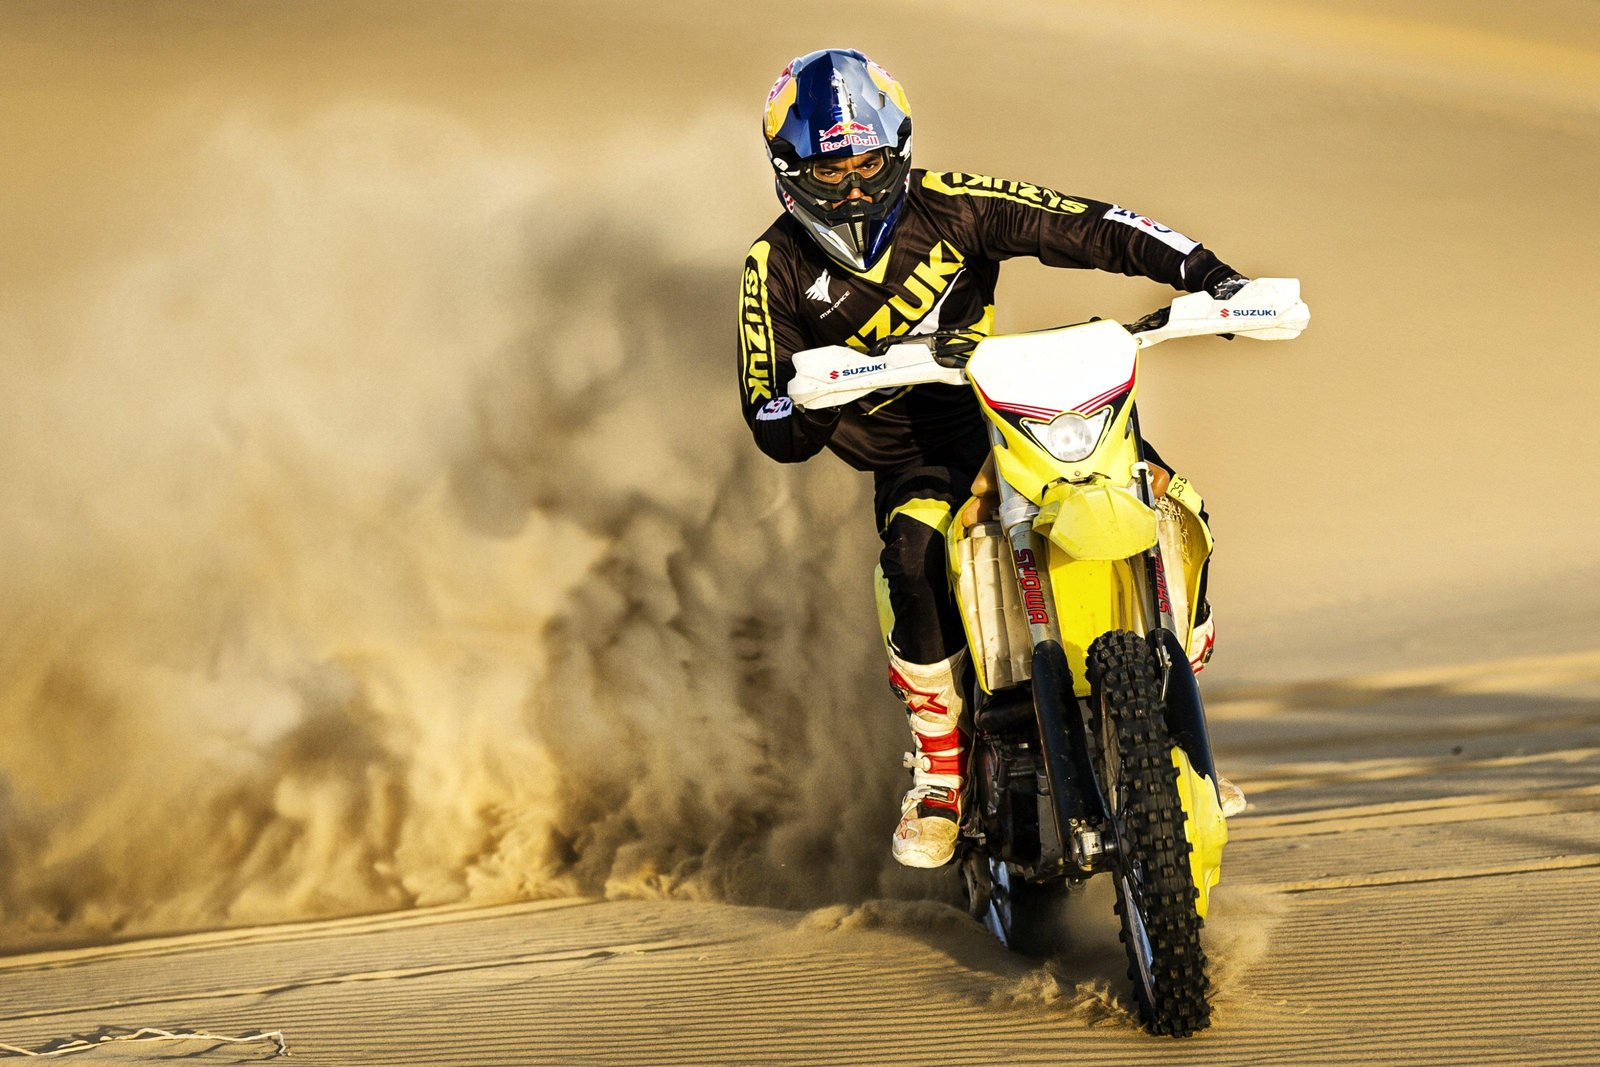helmet: (771, 50, 911, 260)
